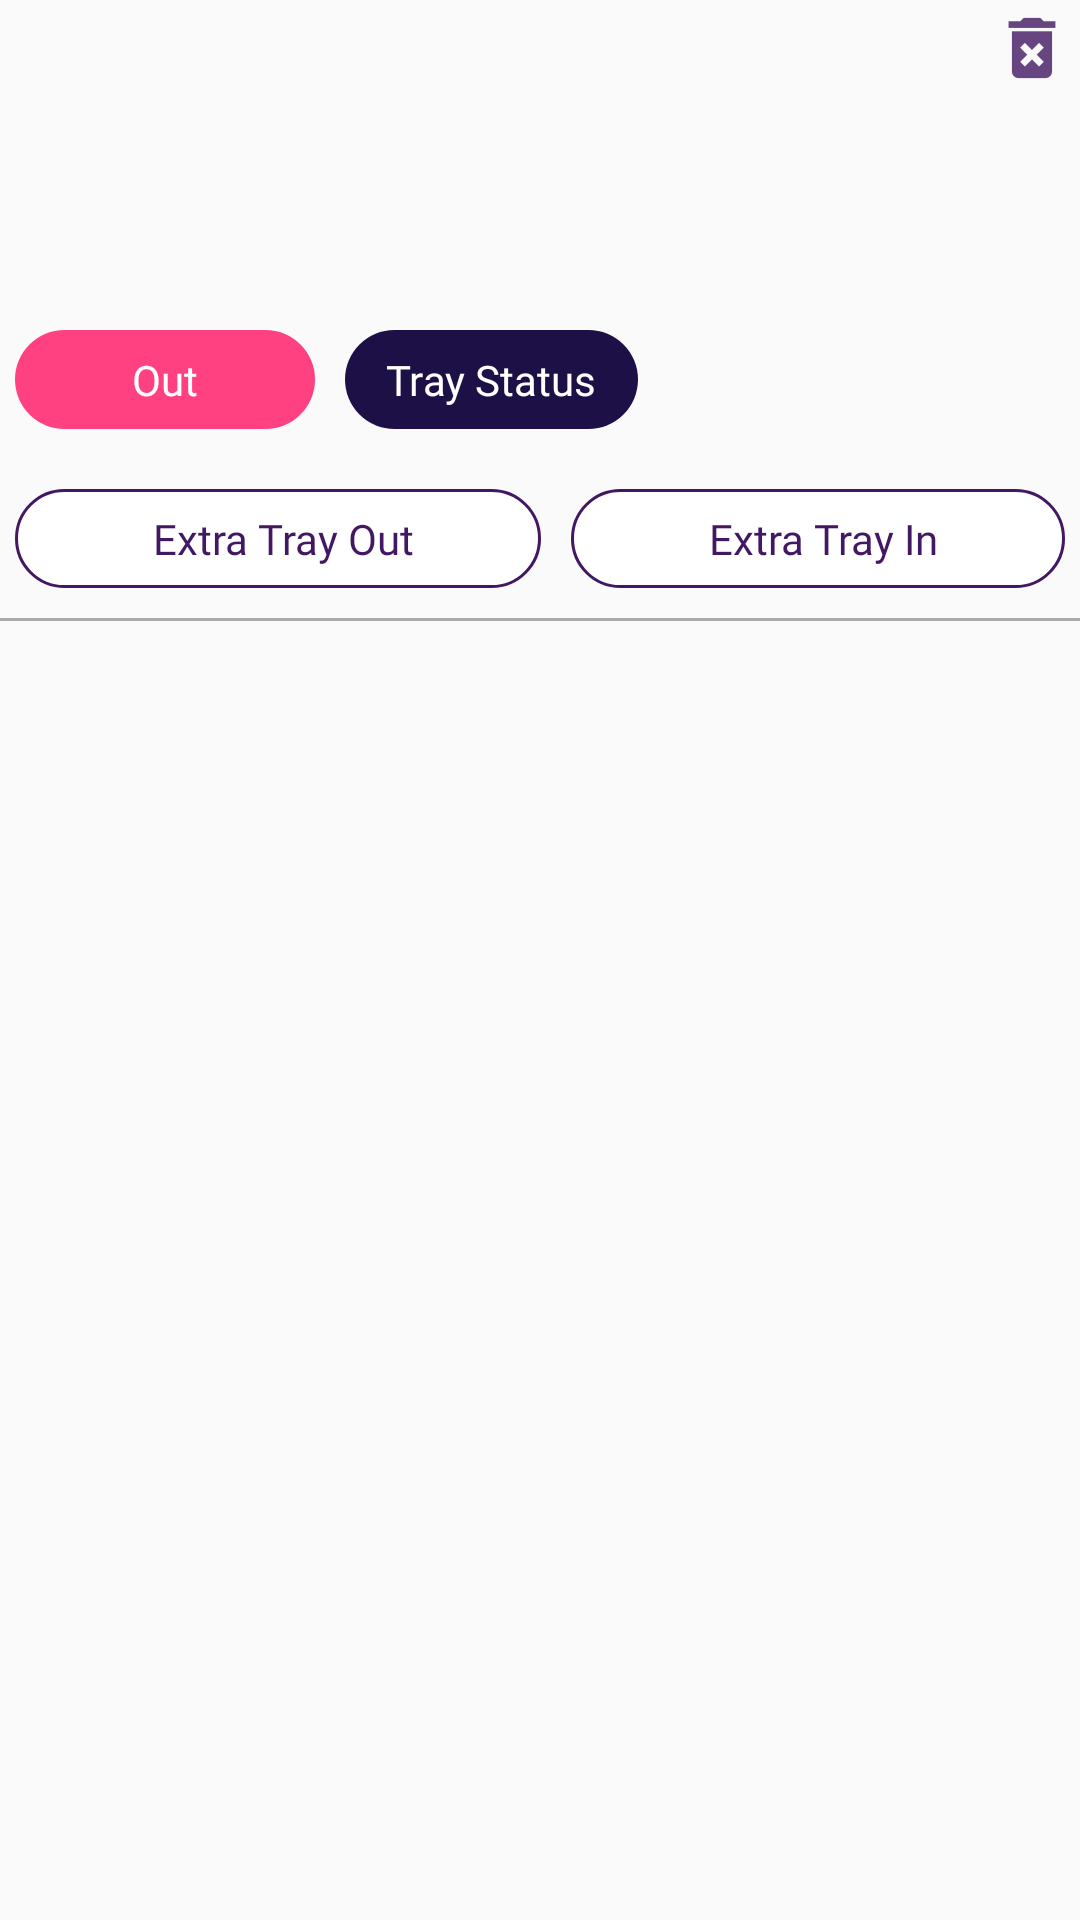

Screen size 1080 x 1920. Icon name, then its center in pixels as point (x, y):
delete: point (1032, 48)
